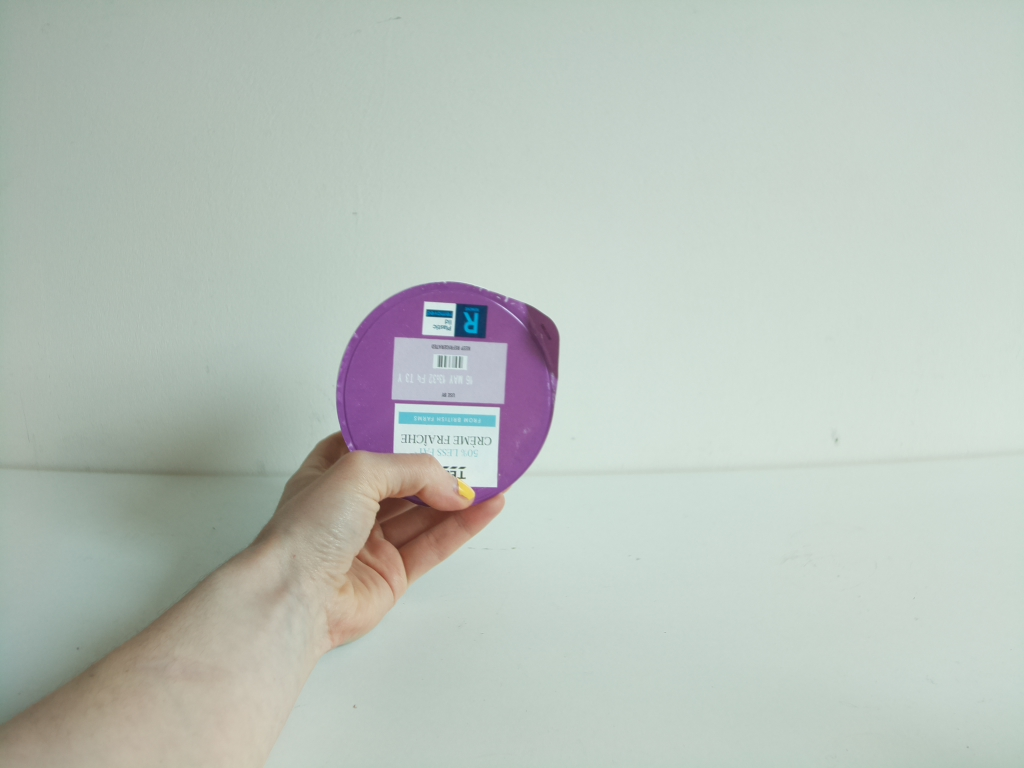cream: (336, 277, 563, 503)
